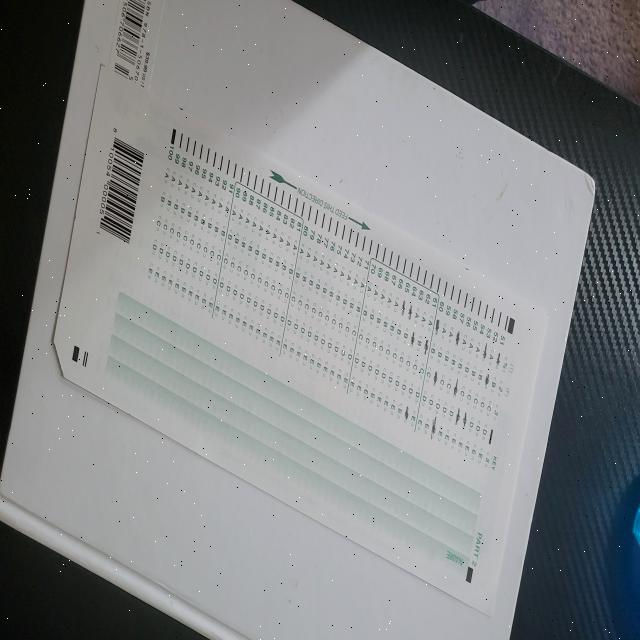scantron_back: (53, 63, 550, 619)
